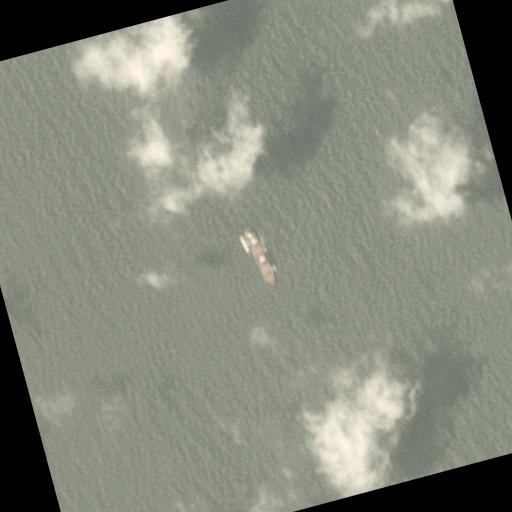ship: (277, 327, 445, 499), (362, 97, 495, 237), (59, 0, 217, 68), (203, 82, 253, 205), (137, 92, 179, 223), (234, 222, 278, 290), (128, 263, 172, 295)
